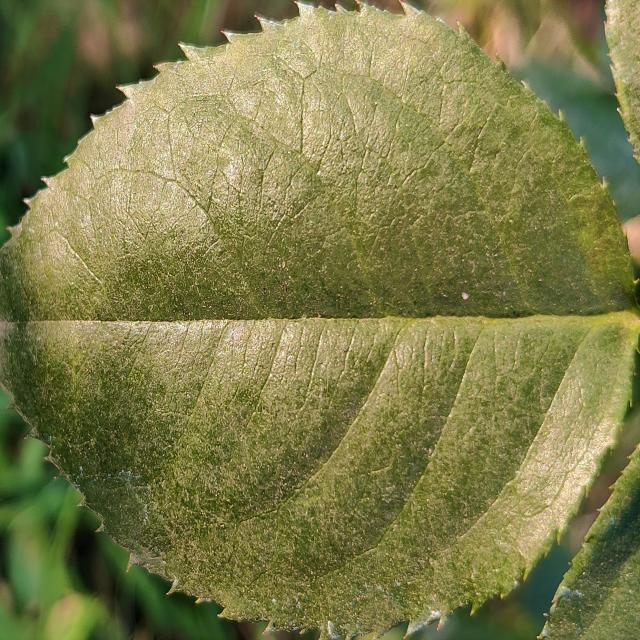Rose: (1, 1, 638, 637)
